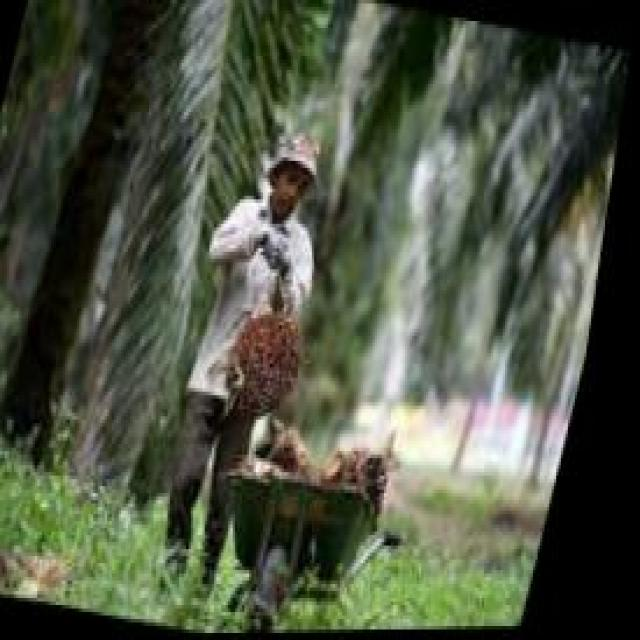Ripefruit: (227, 297, 327, 423)
